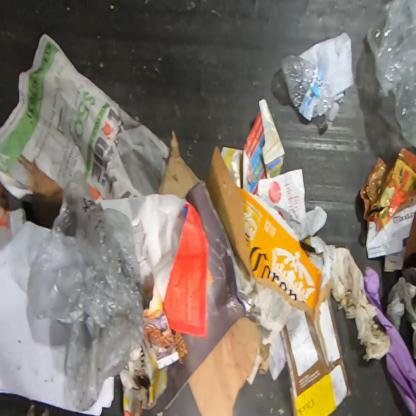cardboard: (205, 147, 321, 317), (280, 241, 352, 415), (188, 314, 270, 416), (158, 128, 201, 200), (30, 164, 66, 232)
rigid_plastic: (283, 54, 340, 122)
soft_plastic: (32, 167, 145, 404), (367, 0, 415, 145)
